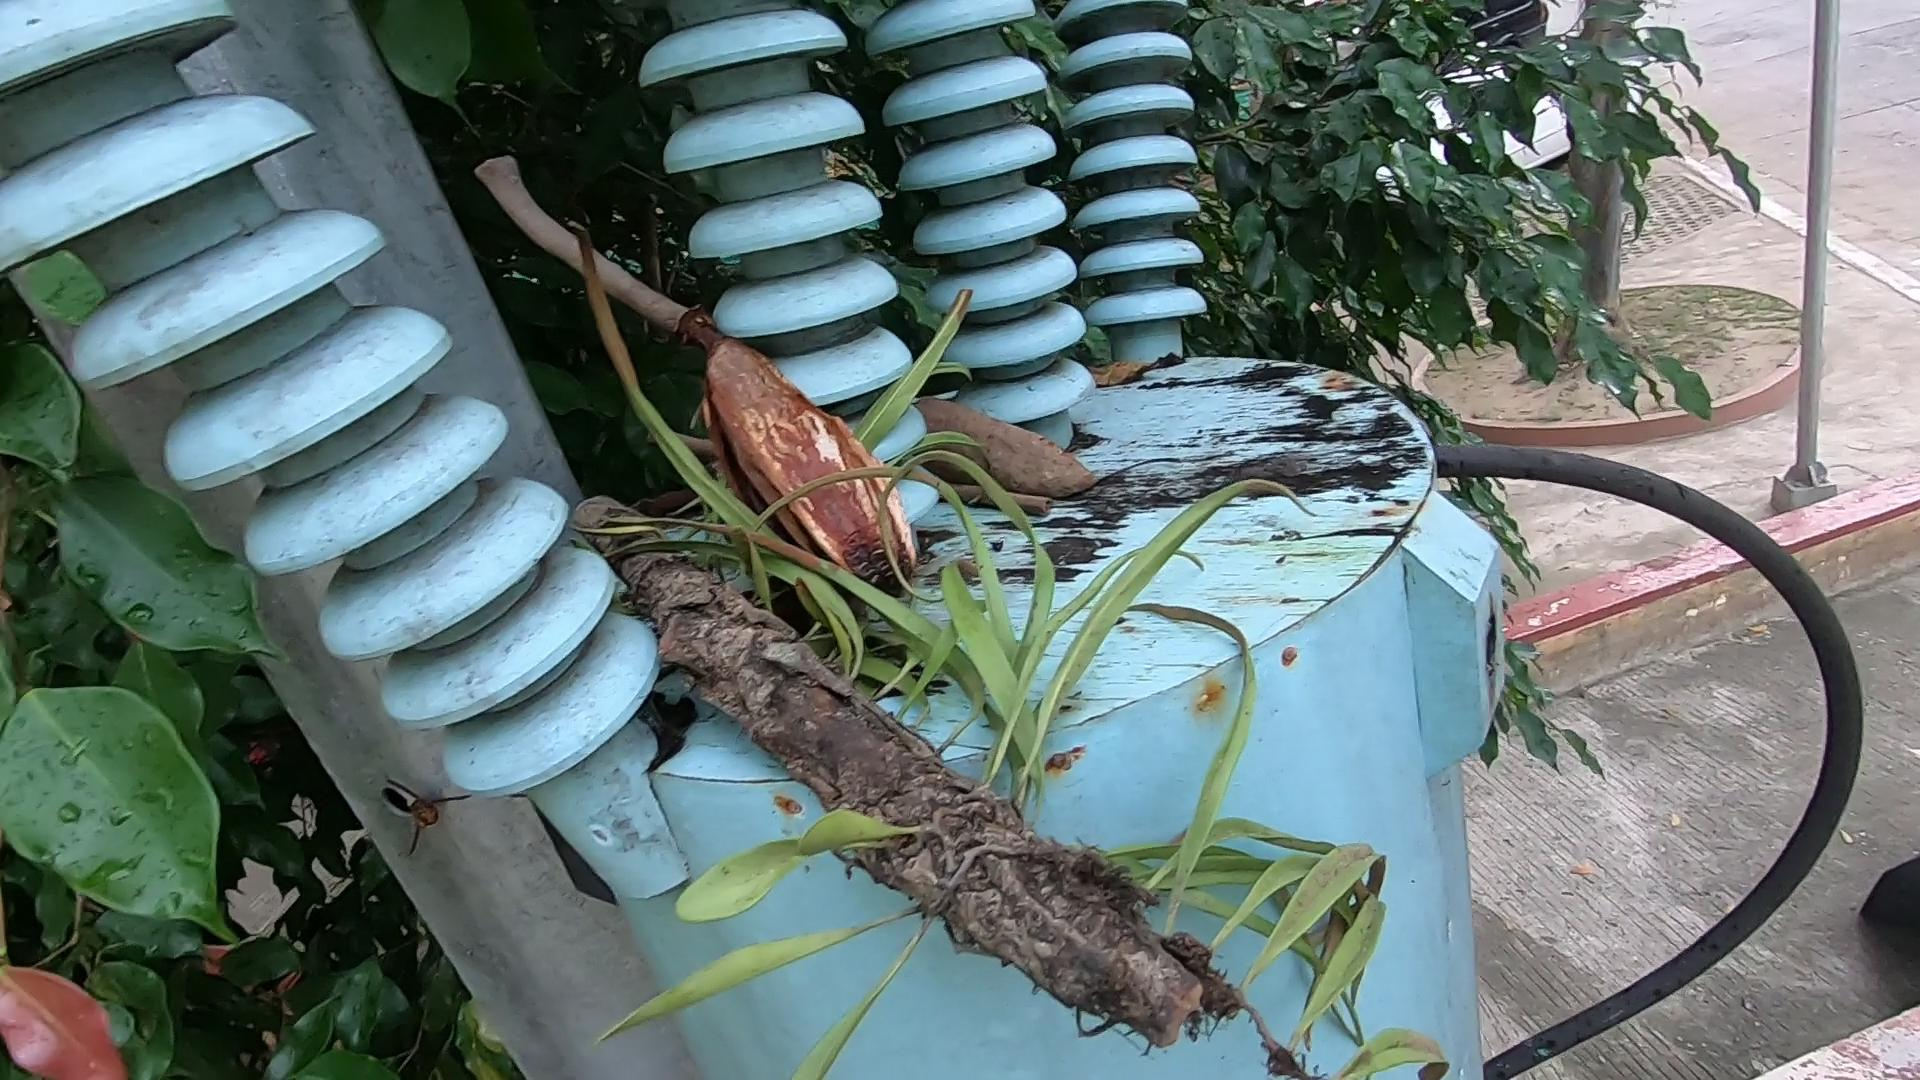branch with leaves: (589, 498, 1229, 1055)
leaf: (1083, 351, 1197, 388)
mahogany fruit: (637, 361, 928, 559), (920, 340, 1127, 517)
tree branch: (465, 128, 683, 373), (913, 476, 1062, 524)
